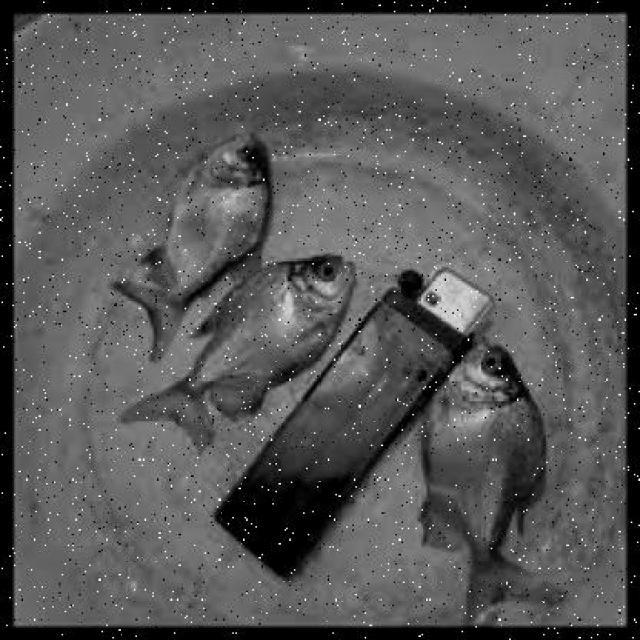ikan-pacu: (133, 244, 356, 438), (417, 344, 546, 607), (156, 131, 269, 334)
